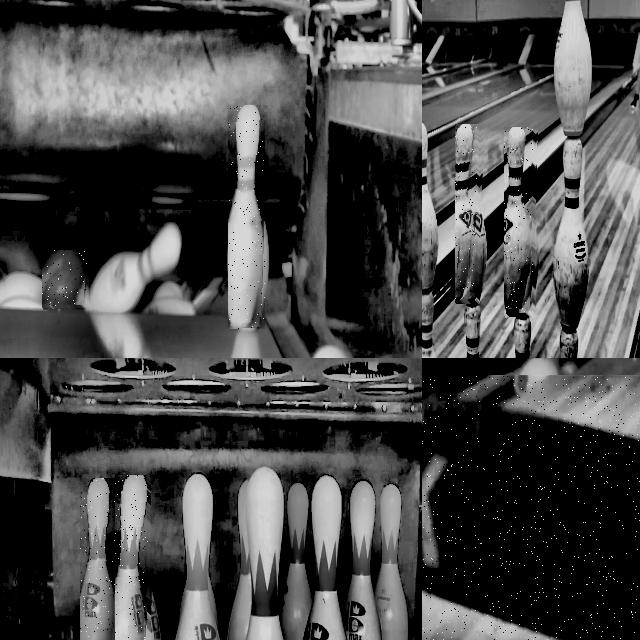bowling-ball: (43, 251, 87, 306)
bowling-pins: (228, 105, 265, 329), (175, 473, 220, 640), (304, 474, 348, 640), (554, 136, 589, 330), (246, 466, 284, 640), (343, 480, 382, 640), (80, 478, 115, 640), (279, 482, 313, 640), (116, 476, 148, 640), (505, 128, 533, 314), (376, 483, 409, 640), (555, 0, 592, 136), (227, 479, 251, 640), (456, 125, 477, 301), (422, 122, 438, 292), (422, 291, 436, 358), (465, 303, 481, 358)
sweep board: (422, 385, 640, 640)
